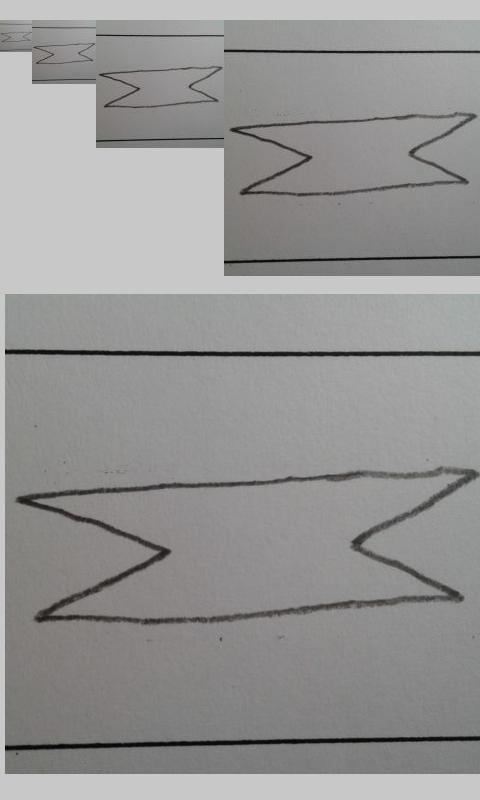edit_text: (12, 466, 478, 626), (230, 111, 478, 197), (99, 66, 222, 109), (33, 43, 95, 65), (1, 31, 32, 42)
